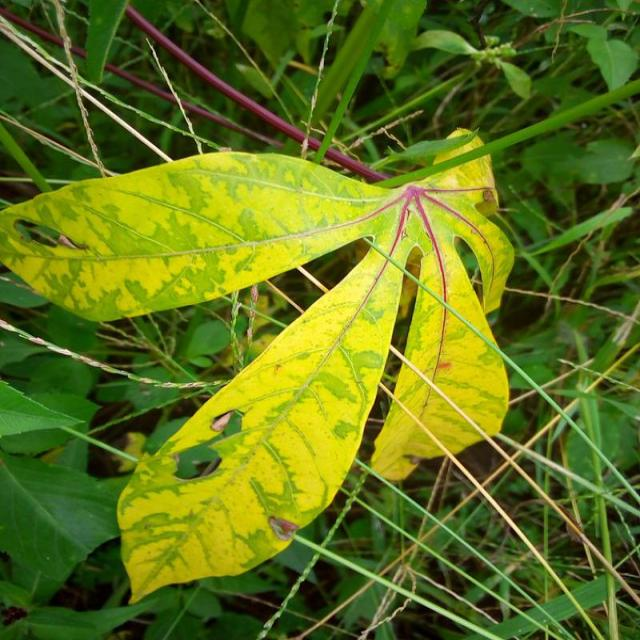cassava leaf: (1, 126, 514, 604), (114, 230, 408, 605)
